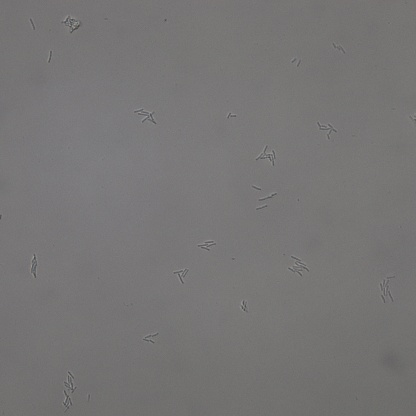R(colony): (378, 273, 396, 305), (287, 255, 311, 277), (317, 120, 338, 141), (256, 145, 278, 165), (132, 107, 157, 124), (64, 370, 78, 392), (172, 267, 189, 285), (61, 394, 75, 413), (197, 239, 215, 252), (143, 332, 161, 345)
